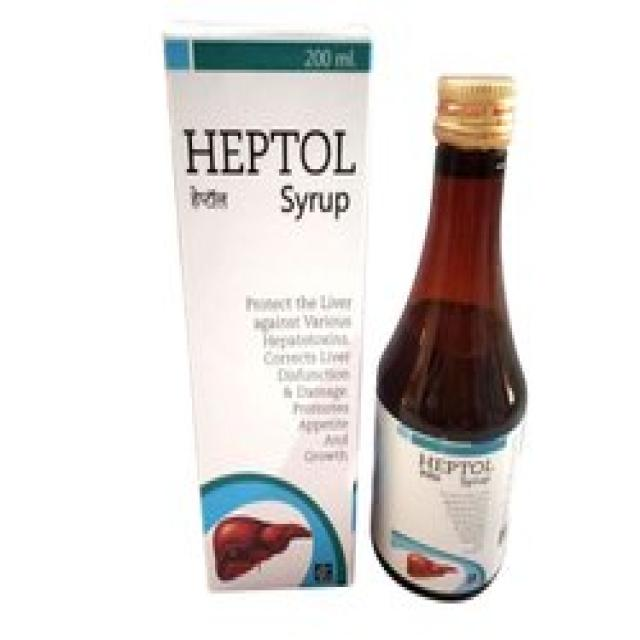B3: (366, 56, 533, 624)
